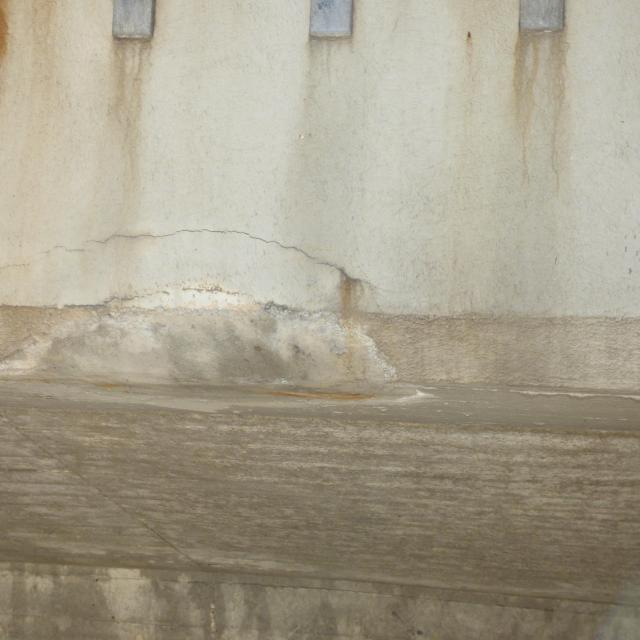concrete spalling: (0, 282, 440, 409)
horizontal crack: (0, 224, 436, 298)
